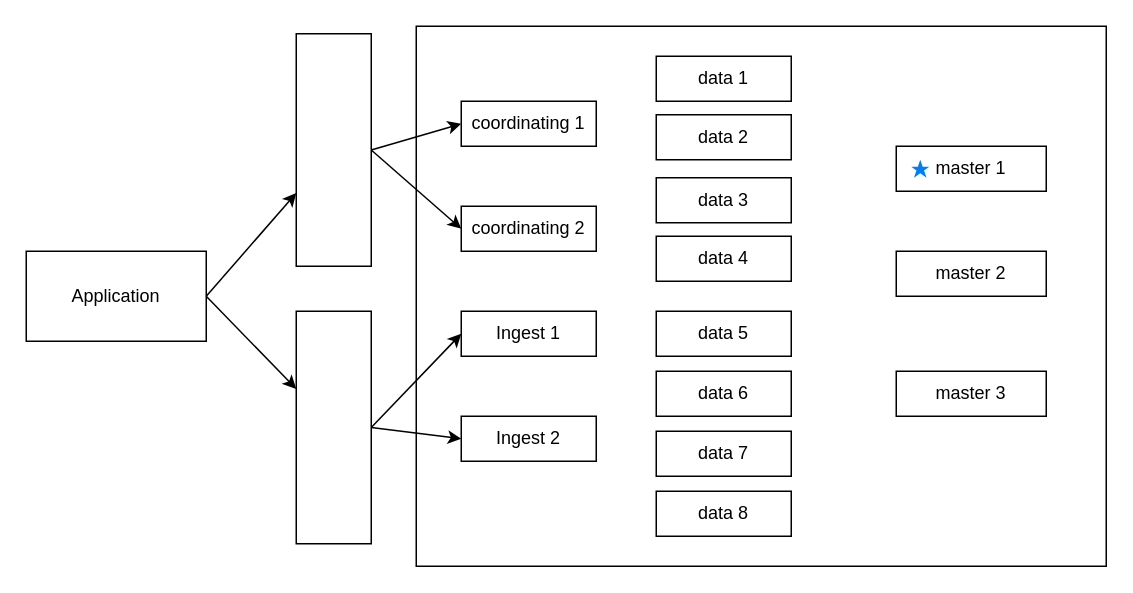
The diagram is 1133 pixels wide and 593 high, and some of its shapes have lost their labels. The shapes that lost their labels are listed below. From the top down, each one's centre as x and y in pixels, then its label:
At pixel 333 149: "read Load Balance".
At pixel 333 427: "write Load Balance".
